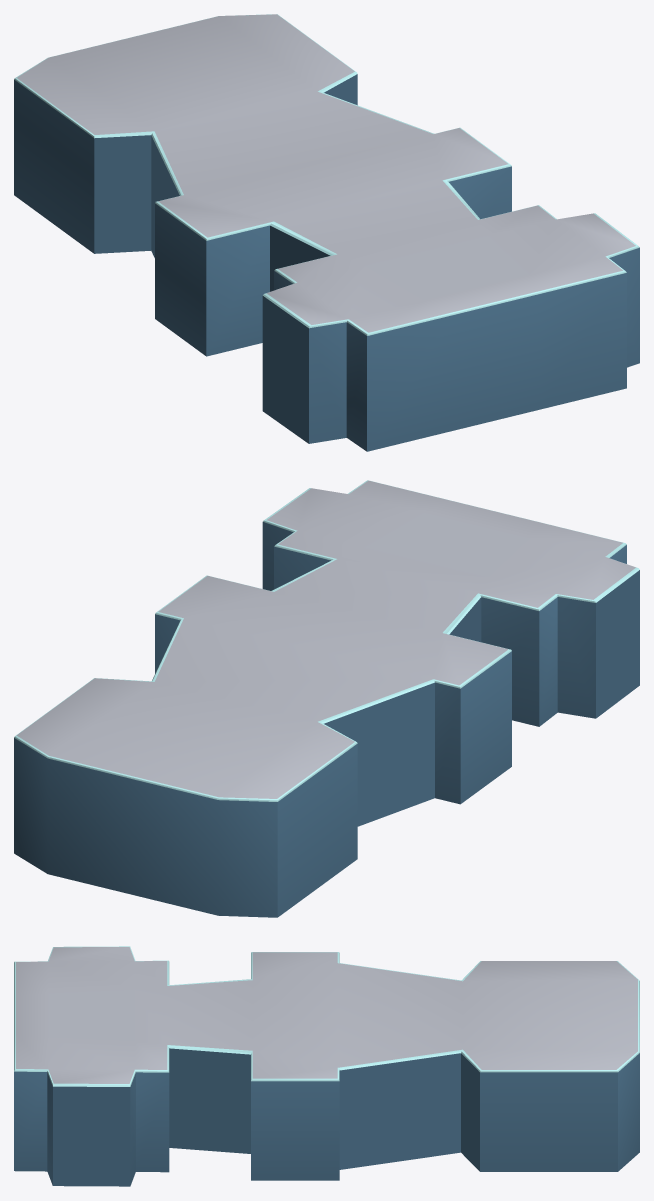
Rendered from Lvl7.fbx.
The picture shows the model from 3 angles, top to bottom: view 1: azimuth 30°, elevation 25°; view 2: azimuth 150°, elevation 25°; view 3: azimuth 270°, elevation 25°; orthographic projection. The views are drawn at different scales.
Parts seen in each view (by area): view 1: lvl7; view 2: lvl7; view 3: lvl7.
Boxes of the visible parts, left/top/right/bottom form: lvl7: left=14, top=14, right=639, bottom=451; lvl7: left=14, top=480, right=639, bottom=917; lvl7: left=14, top=946, right=639, bottom=1186.
Bounding box in the file's own units: 4214 × 1421 × 7971.
